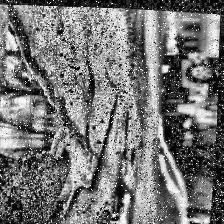pothole: (1, 6, 86, 168), (40, 136, 110, 224), (108, 172, 140, 224)
